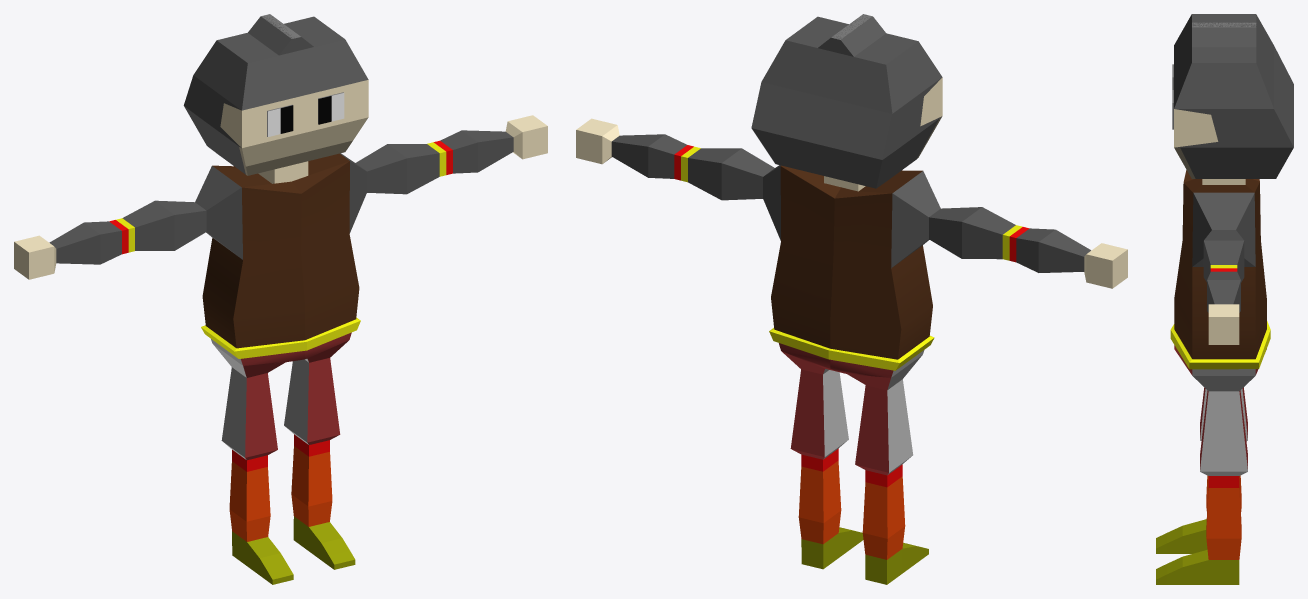
The model's file is Ballestero - Enemigo.fbx.
3 views of the same model, side by side, from view 1: azimuth 30°, elevation 25°; view 2: azimuth 150°, elevation 25°; view 3: azimuth 270°, elevation 25° (orthographic). The views are drawn at different scales.
Parts seen in each view (by area): view 1: Soldado; view 2: Soldado; view 3: Soldado.
Part boxes in pixels (bbox=[...]): Soldado: bbox=[14, 14, 547, 584]; Soldado: bbox=[576, 14, 1127, 584]; Soldado: bbox=[1156, 14, 1293, 584].
Bounding box in the file's own units: 97.44 × 94.06 × 21.78.
